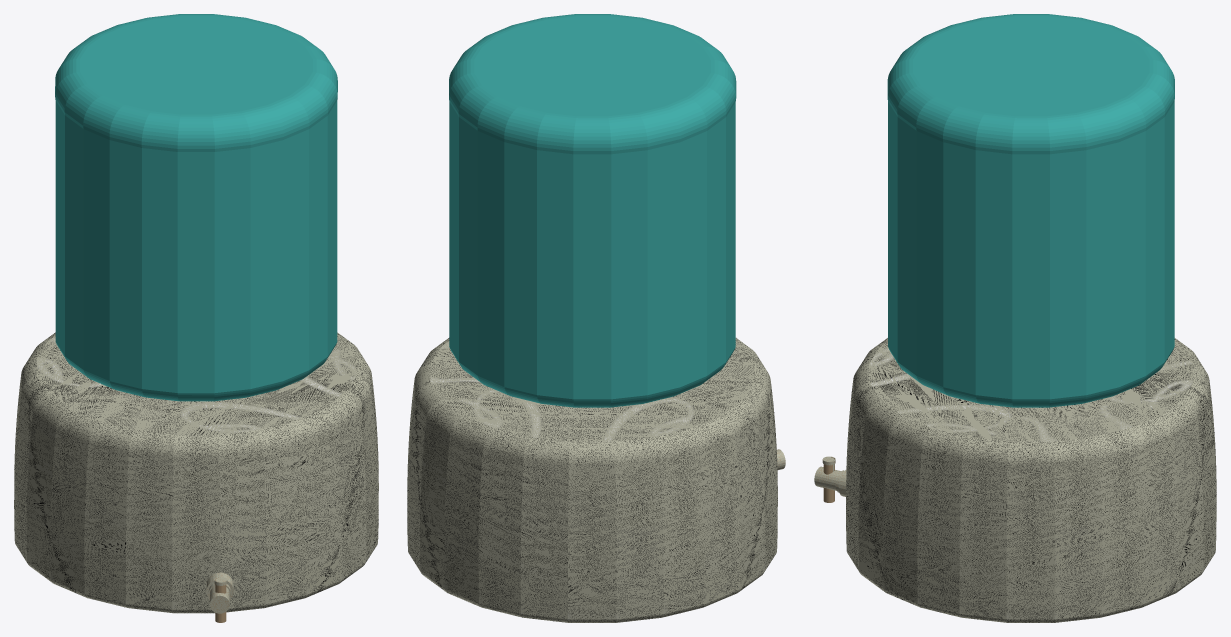
The picture shows the model from 3 angles, left to right: view 1: azimuth 30°, elevation 25°; view 2: azimuth 150°, elevation 25°; view 3: azimuth 270°, elevation 25°; orthographic projection.
Visible parts, largest first — view 1: mesh2_mesh2-geometry, mesh1_mesh1-geometry, mesh3_mesh3-geometry; view 2: mesh2_mesh2-geometry, mesh1_mesh1-geometry; view 3: mesh2_mesh2-geometry, mesh1_mesh1-geometry, mesh3_mesh3-geometry.
Part boxes in pixels (x1,y1,x2,y2): mesh2_mesh2-geometry: (55,14,337,401); mesh1_mesh1-geometry: (14,332,378,613); mesh3_mesh3-geometry: (206,572,233,613); mesh2_mesh2-geometry: (449,14,736,407); mesh1_mesh1-geometry: (407,338,777,622); mesh2_mesh2-geometry: (887,14,1174,407); mesh1_mesh1-geometry: (846,338,1216,622); mesh3_mesh3-geometry: (814,466,846,496).
Bounding box in the file's own units: 0.4862 × 0.6966 × 0.5277.
